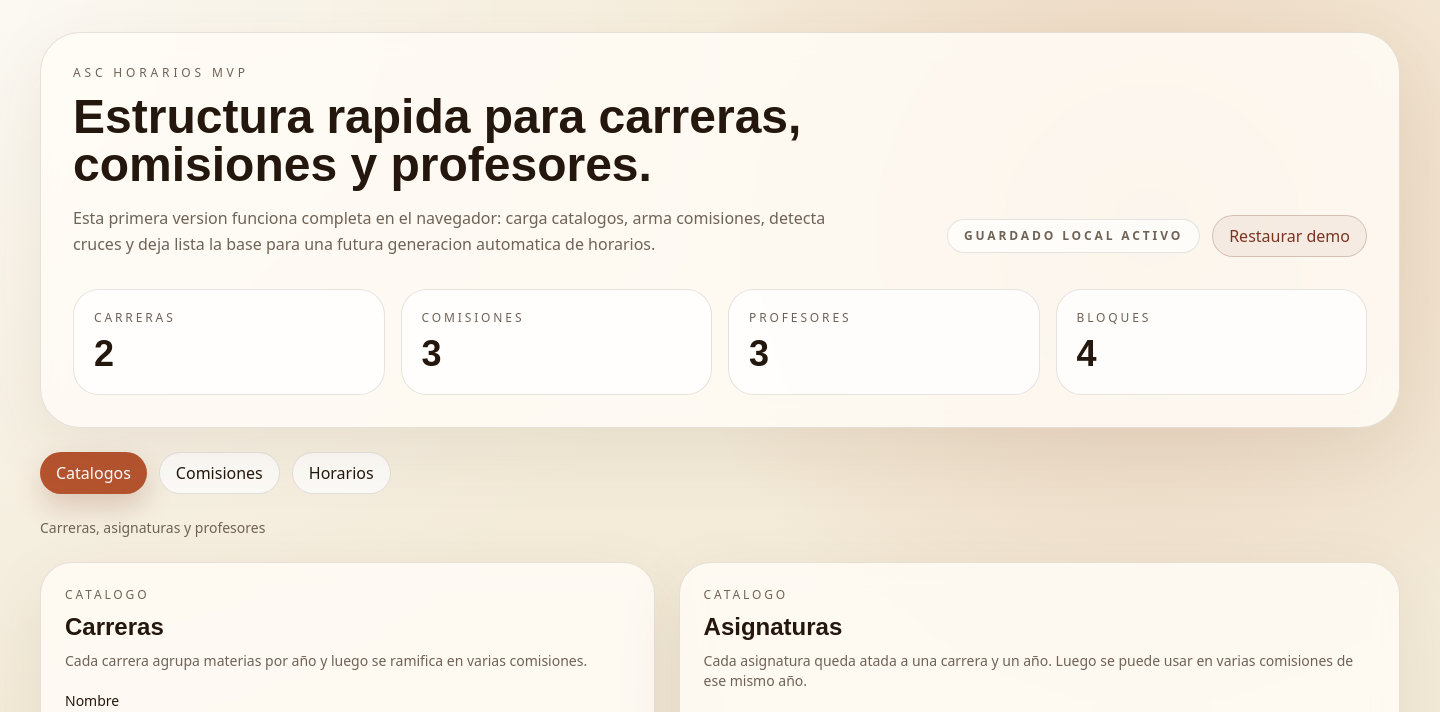
Test: AppShell › lets the user search and pick a visible commission from the combobox
Step 1. Click the button "Horarios" → (341,473), box 292,452 -> 391,494
(page scrolled)
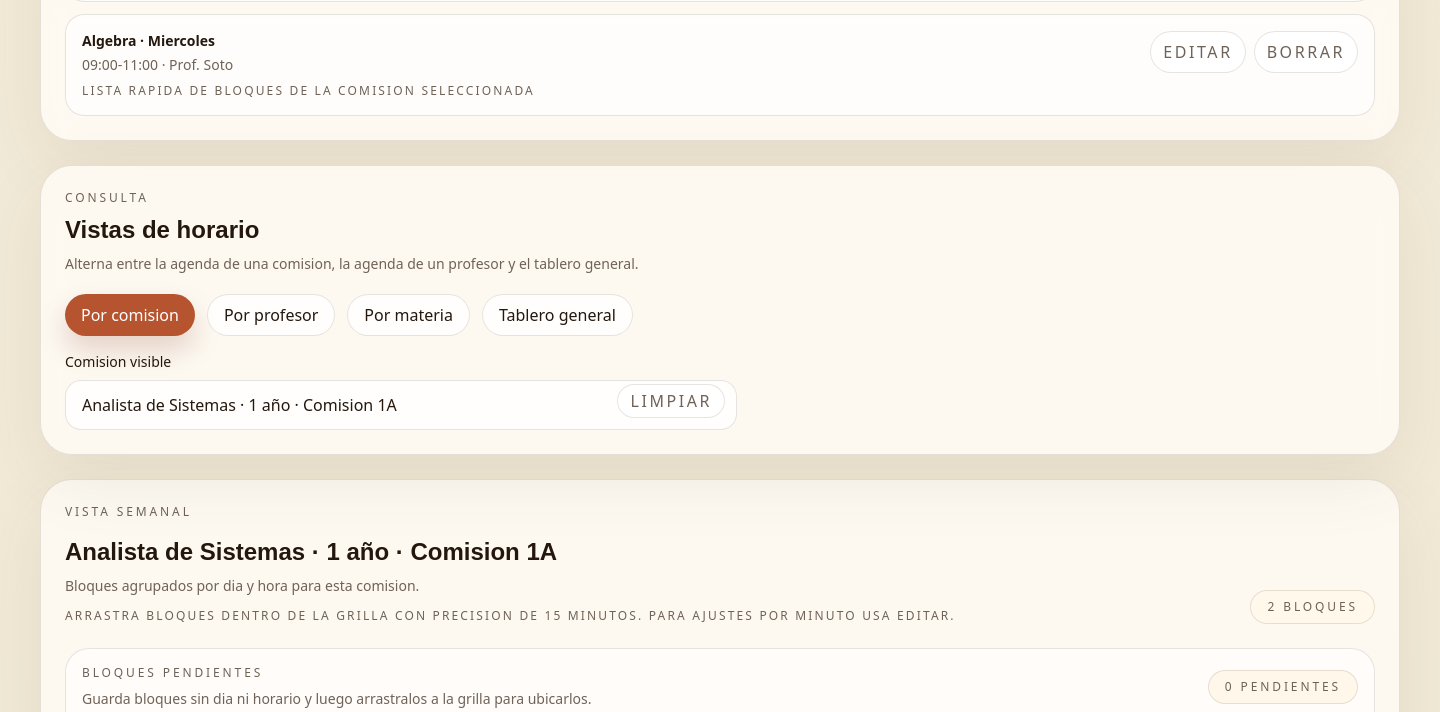
Step 2. Replace the text in the dropdown labelled "Comision visible" with "datos" → (401,405), box 65,380 -> 737,430
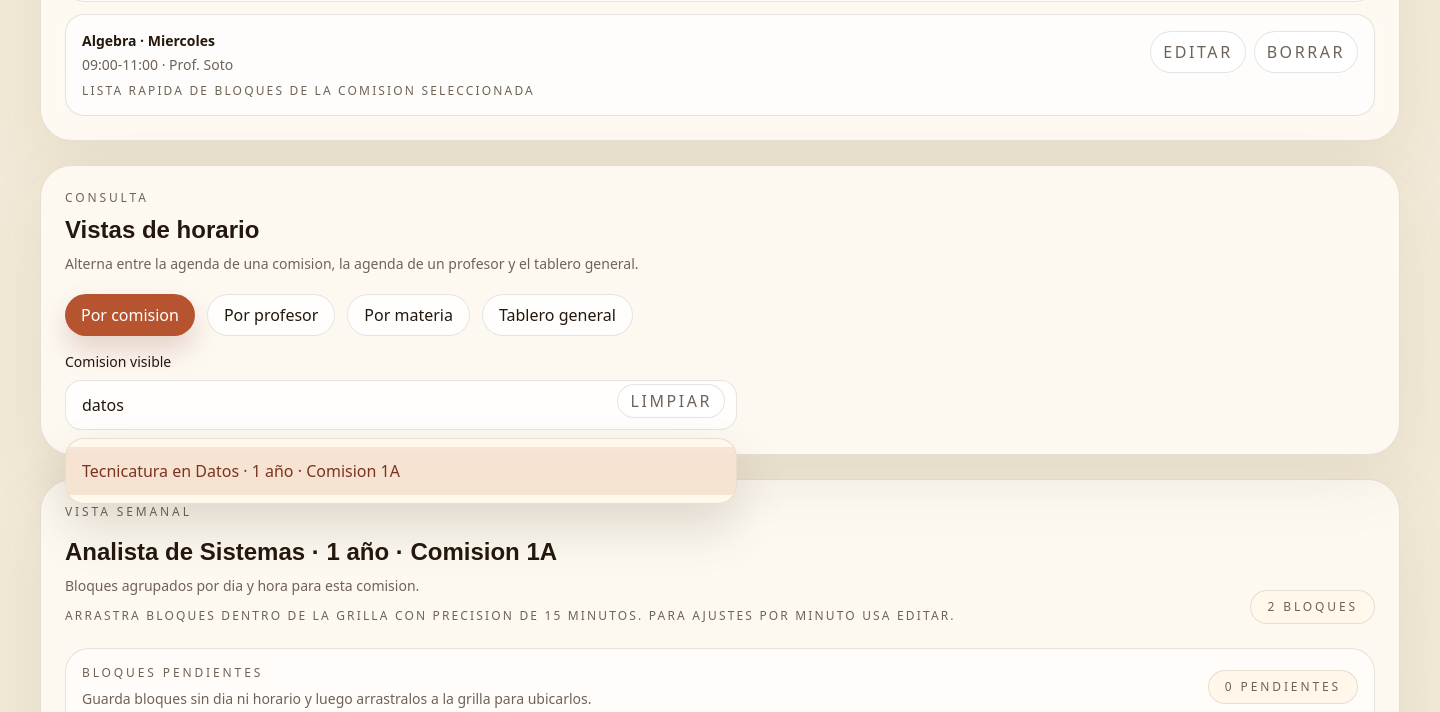
Check: the option "Tecnicatura en Datos · 1 año · Comision 1A" is shown, box 66,447 -> 736,495
Step 3. Press ArrowDown in the dropdown labelled "Comision visible", box 65,380 -> 737,430
Step 4. Press Enter in the dropdown labelled "Comision visible", box 65,380 -> 737,430
(page scrolled)
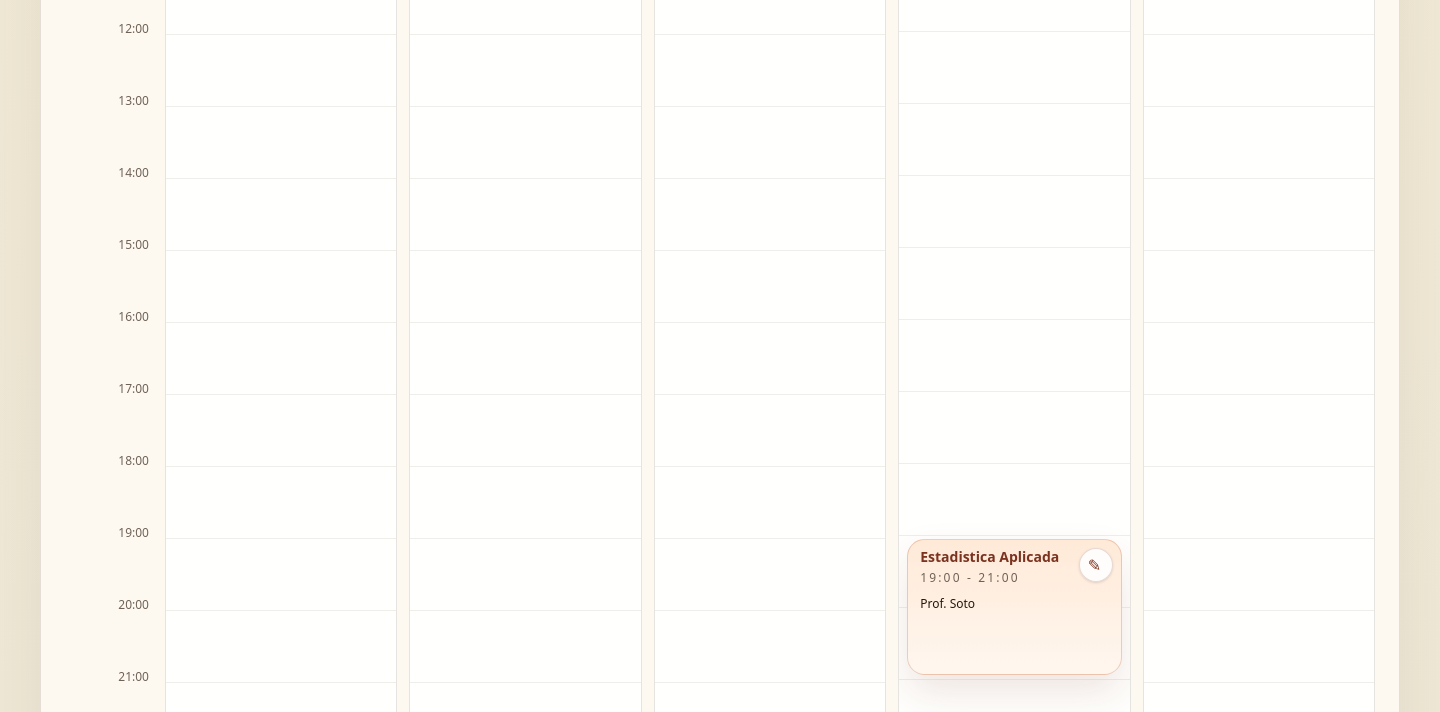
Check: the text "Estadistica Aplicada" is shown, box 920,547 -> 1059,566
